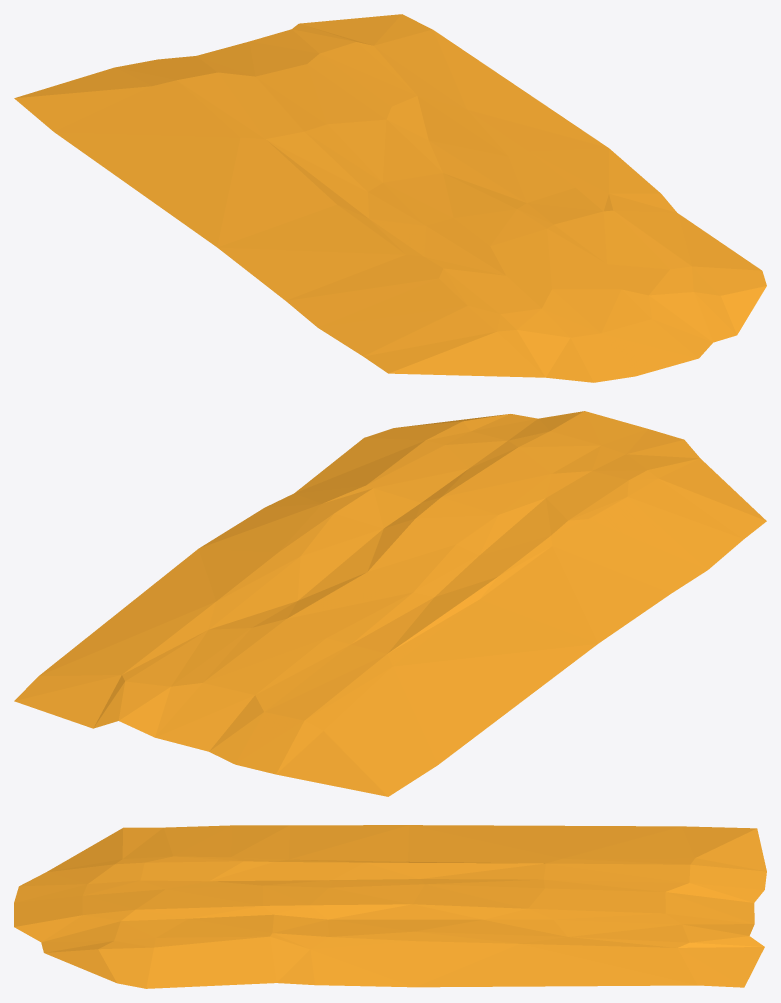
File: SM_Road_Dirt_A_Straight_10x10m.fbx
The picture shows the model from 3 angles, top to bottom: view 1: azimuth 30°, elevation 25°; view 2: azimuth 150°, elevation 25°; view 3: azimuth 270°, elevation 25°; orthographic projection. The views are drawn at different scales.
Parts seen in each view (by area): view 1: road-dirt-a-straight-10x10m; view 2: road-dirt-a-straight-10x10m; view 3: road-dirt-a-straight-10x10m.
Boxes of the visible parts, x1,y1,x2,y2 form: road-dirt-a-straight-10x10m: (14, 14, 766, 382); road-dirt-a-straight-10x10m: (14, 411, 766, 796); road-dirt-a-straight-10x10m: (14, 825, 766, 988).
Size of the model in its own units: 7.07 by 0.4812 by 13.67.
